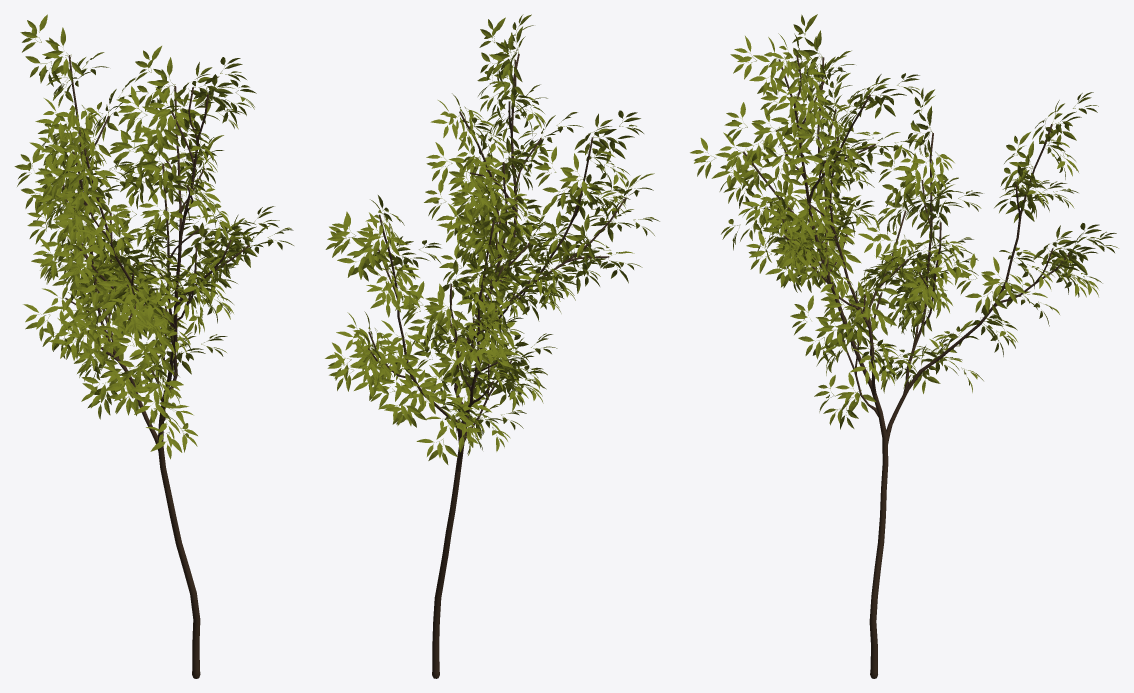
File: blenderzelkova_schneideriana.glb
3 views of the same model, side by side, from view 1: azimuth 30°, elevation 25°; view 2: azimuth 150°, elevation 25°; view 3: azimuth 270°, elevation 25° (orthographic). The views are drawn at different scales.
Visible parts, largest first — view 1: Zelkova_schneideriana__0, jushu.080_80, jushu.054_54, jushu.062_62, jushu.036_36, jushu.090_90, jushu.065_65, jushu.086_86, jushu.022_22, jushu.074_74, jushu.034_34, jushu.016_16 (+47 smaller); view 2: Zelkova_schneideriana__0, jushu.007_7, jushu.035_35, jushu.017_17, jushu.083_83, jushu.081_81, jushu.014_14, jushu.018_18, jushu.005_5, jushu.071_71, jushu.061_61, jushu.078_78 (+34 smaller); view 3: Zelkova_schneideriana__0, jushu.079_79, jushu.003_3, jushu.044_44, jushu.053_53, jushu.047_47, jushu.073_73, jushu.025_25, jushu.088_88, jushu.015_15, jushu.048_48, jushu.058_58 (+16 smaller).
Boxes of the visible parts, bbox=[...] form: Zelkova_schneideriana__0: bbox=[62, 55, 249, 678]; jushu.080_80: bbox=[116, 86, 195, 148]; jushu.054_54: bbox=[20, 14, 83, 86]; jushu.062_62: bbox=[110, 124, 178, 192]; jushu.036_36: bbox=[35, 152, 115, 212]; jushu.090_90: bbox=[107, 365, 183, 425]; jushu.065_65: bbox=[31, 231, 99, 290]; jushu.086_86: bbox=[23, 288, 91, 341]; jushu.022_22: bbox=[115, 190, 186, 249]; jushu.074_74: bbox=[31, 174, 105, 233]; jushu.034_34: bbox=[77, 205, 136, 262]; jushu.016_16: bbox=[27, 201, 105, 262]; Zelkova_schneideriana__0: bbox=[368, 53, 626, 678]; jushu.007_7: bbox=[332, 211, 406, 270]; jushu.035_35: bbox=[534, 146, 601, 212]; jushu.017_17: bbox=[378, 357, 436, 424]; jushu.083_83: bbox=[416, 398, 480, 464]; jushu.081_81: bbox=[479, 17, 522, 85]; jushu.014_14: bbox=[402, 281, 467, 343]; jushu.018_18: bbox=[327, 347, 401, 400]; jushu.005_5: bbox=[366, 264, 423, 317]; jushu.071_71: bbox=[574, 110, 643, 163]; jushu.061_61: bbox=[325, 216, 394, 281]; jushu.078_78: bbox=[426, 138, 499, 195]; Zelkova_schneideriana__0: bbox=[743, 55, 1069, 678]; jushu.079_79: bbox=[724, 102, 795, 164]; jushu.003_3: bbox=[956, 253, 1025, 316]; jushu.044_44: bbox=[790, 113, 861, 178]; jushu.053_53: bbox=[730, 36, 800, 95]; jushu.047_47: bbox=[736, 143, 810, 194]; jushu.073_73: bbox=[690, 132, 766, 190]; jushu.025_25: bbox=[823, 282, 896, 346]; jushu.088_88: bbox=[790, 295, 857, 362]; jushu.015_15: bbox=[876, 247, 941, 315]; jushu.048_48: bbox=[760, 77, 832, 140]; jushu.058_58: bbox=[877, 144, 935, 211].
Bounding box in the file's own units: 3.92 × 10.54 × 6.48.
